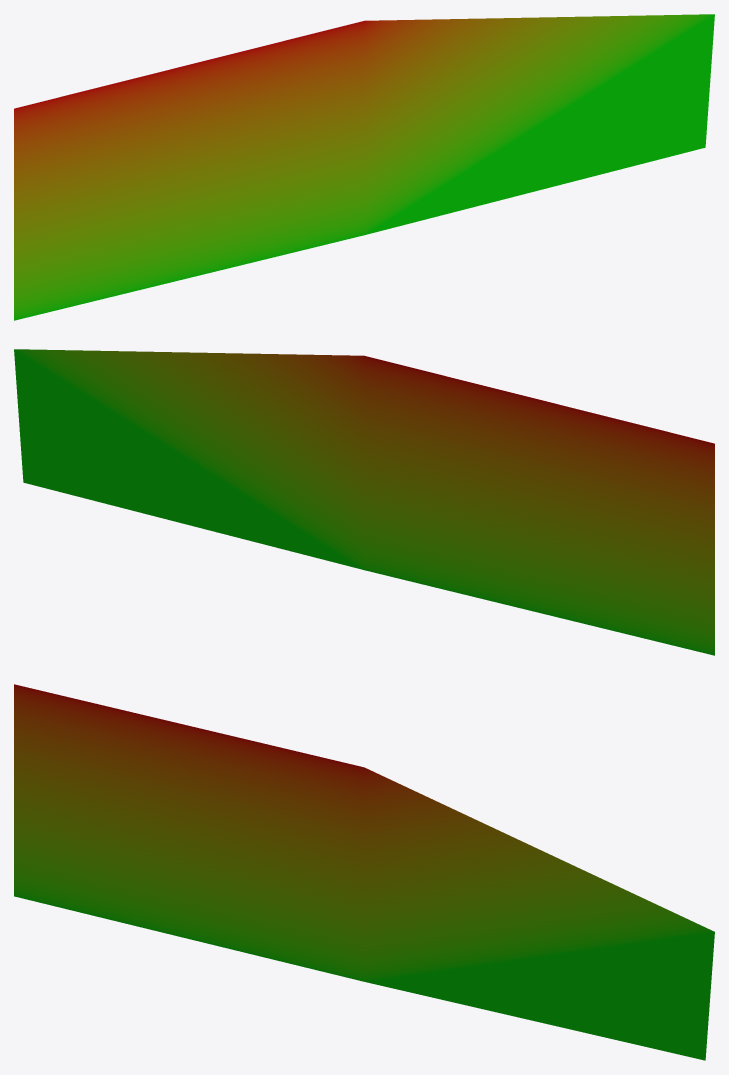
Rendered from Money Plant_LOD3_Var4_uchmfdyia.fbx.
3 renders of one model, top to bottom at view 1: azimuth 30°, elevation 25°; view 2: azimuth 150°, elevation 25°; view 3: azimuth 330°, elevation 25°, orthographic.
Visible parts, largest first — view 1: _9c24_Var4_LOD3; view 2: _9c24_Var4_LOD3; view 3: _9c24_Var4_LOD3.
Part boxes in pixels (x1,y1,x2,y2): _9c24_Var4_LOD3: (14, 14, 714, 320); _9c24_Var4_LOD3: (14, 349, 714, 655); _9c24_Var4_LOD3: (14, 684, 714, 1060).
Size of the model in its own units: 38.23 by 11.18 by 1.39e-05.
